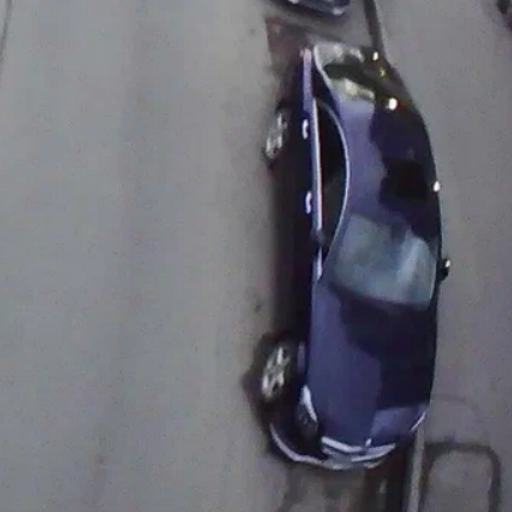Car: (257, 38, 446, 467)
